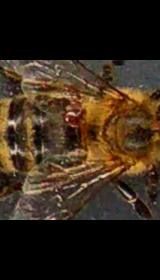varroa_mite: (61, 98, 90, 132)
